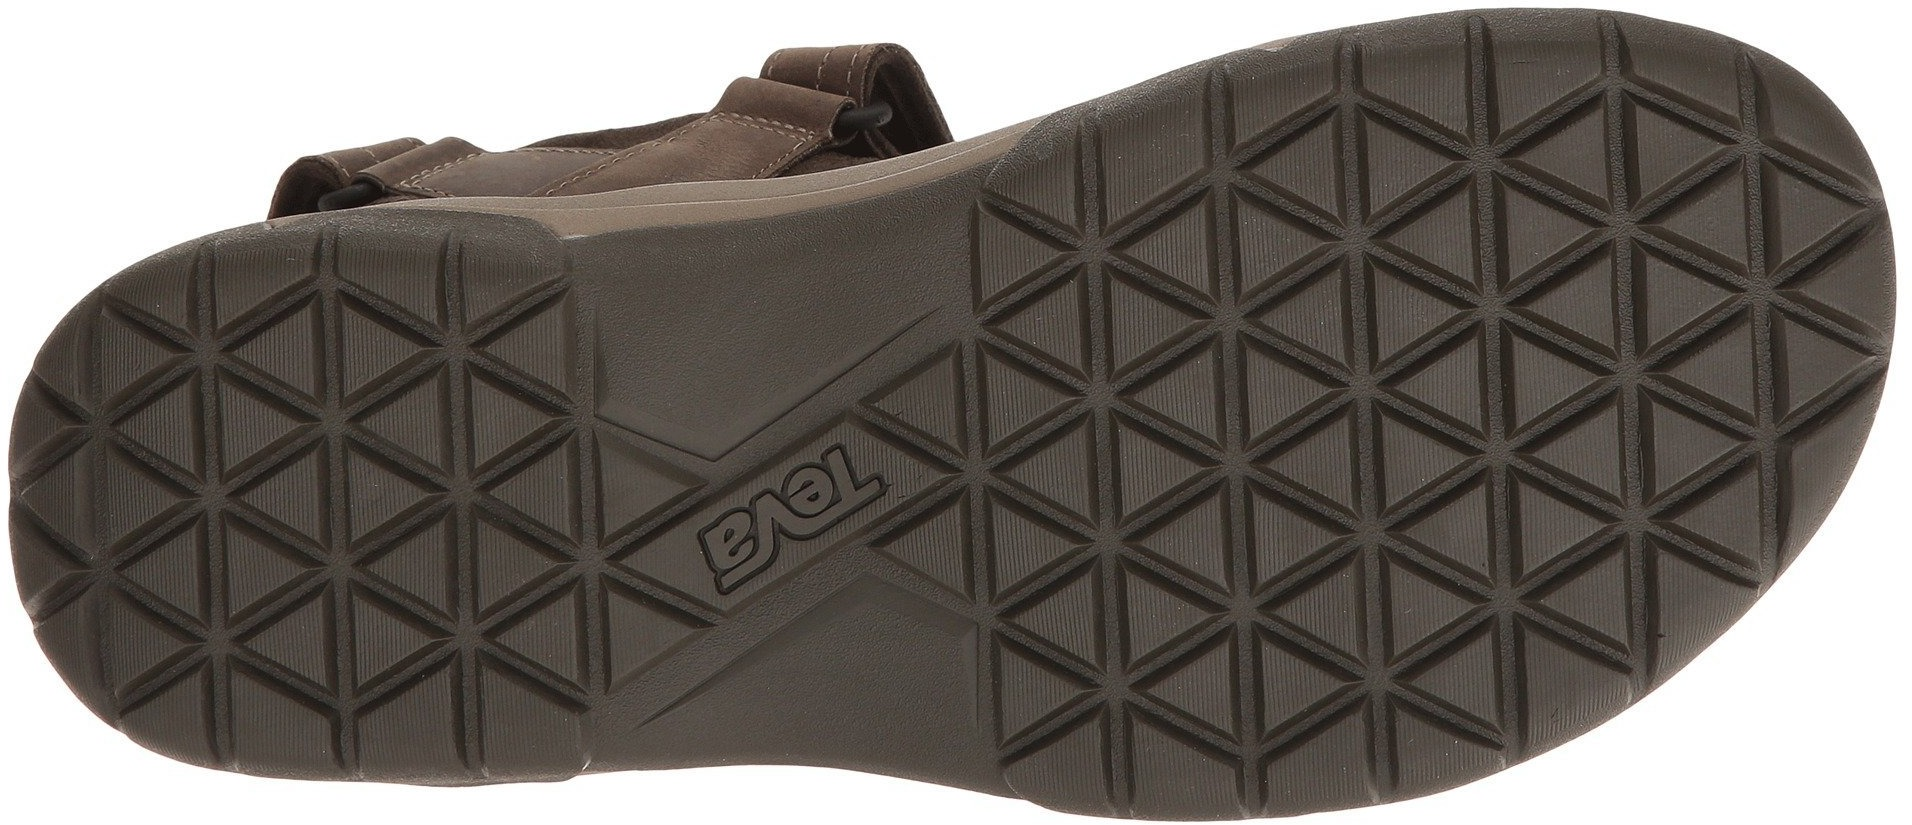exclude: (146, 0, 1147, 246)
other: (773, 626, 965, 762)
polygon: (1341, 52, 1771, 513), (123, 285, 576, 720), (986, 195, 1358, 573)
quad: (590, 322, 976, 697)
text: (590, 322, 976, 697)
triangle: (1341, 52, 1771, 513), (123, 285, 576, 720), (590, 322, 976, 697), (986, 195, 1358, 573), (1007, 581, 1524, 749), (1525, 519, 1682, 668)
